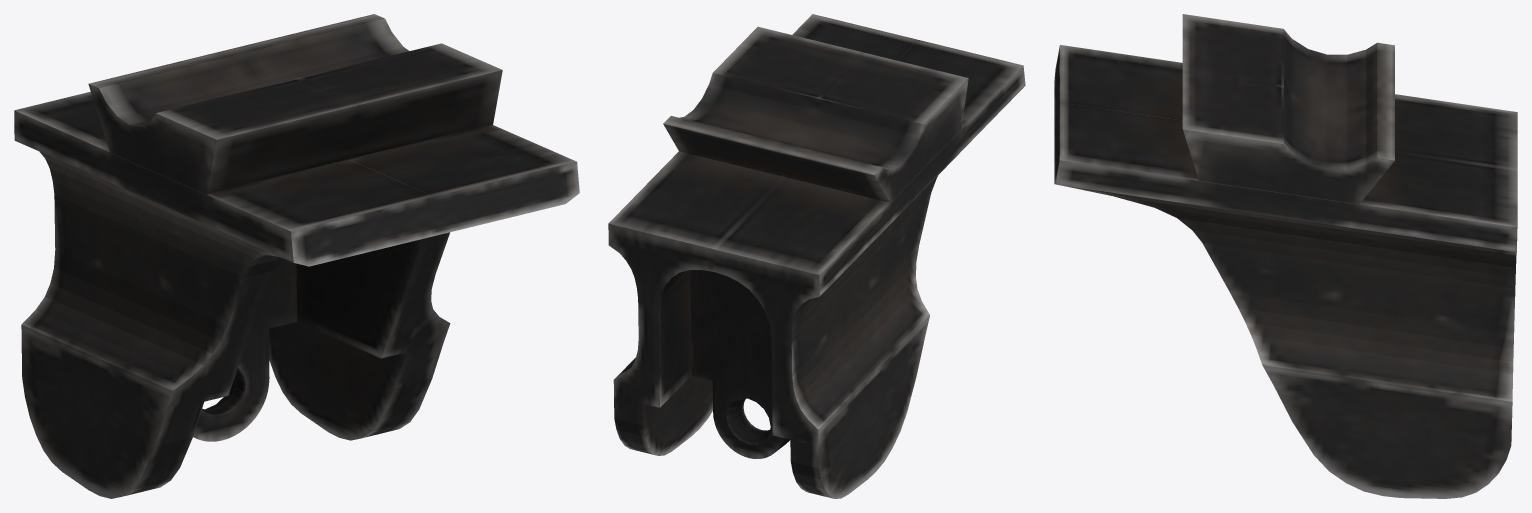
The picture shows the model from 3 angles, left to right: view 1: azimuth 30°, elevation 25°; view 2: azimuth 150°, elevation 25°; view 3: azimuth 270°, elevation 25°; orthographic projection. The views are drawn at different scales.
Visible parts, largest first — view 1: TW_5b0bc22d5acfc47a8607f085_PZ_Import; view 2: TW_5b0bc22d5acfc47a8607f085_PZ_Import; view 3: TW_5b0bc22d5acfc47a8607f085_PZ_Import.
Part boxes in pixels (x1=…): TW_5b0bc22d5acfc47a8607f085_PZ_Import: x1=14, y1=14, x2=579, y2=498; TW_5b0bc22d5acfc47a8607f085_PZ_Import: x1=608, y1=14, x2=1025, y2=498; TW_5b0bc22d5acfc47a8607f085_PZ_Import: x1=1054, y1=14, x2=1517, y2=498.
Bounding box in the file's own units: 0.00951 × 0.0161 × 0.0143.
Materials: 1 (1 with a texture image).
